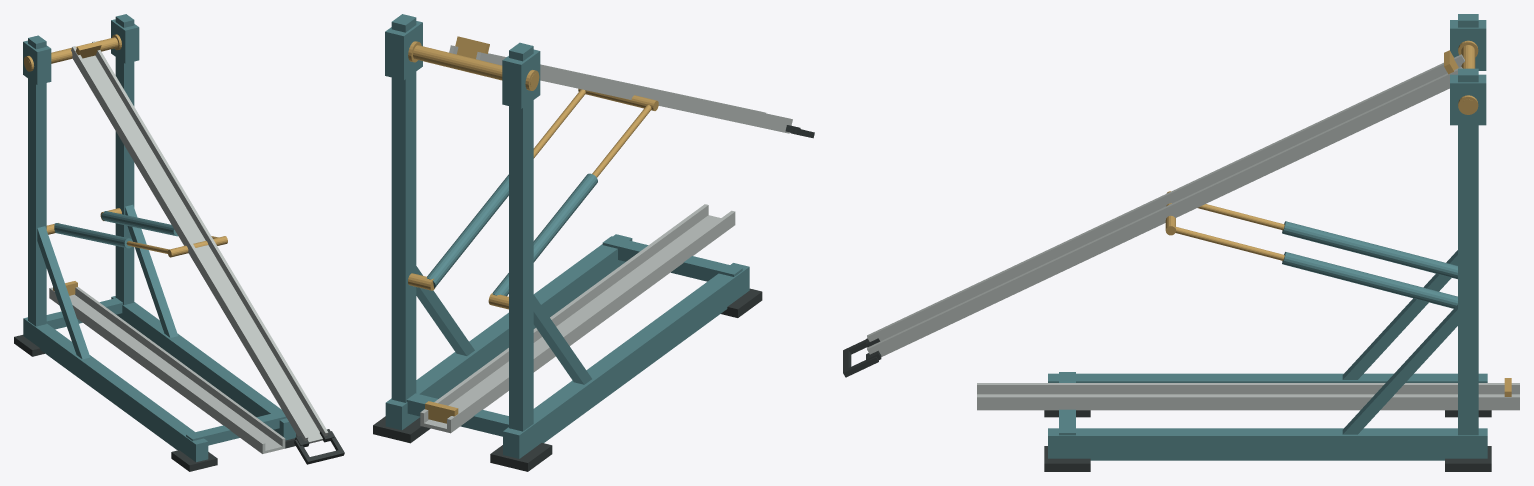
The picture shows the model from 3 angles, left to right: view 1: azimuth 30°, elevation 25°; view 2: azimuth 150°, elevation 25°; view 3: azimuth 270°, elevation 25°; orthographic projection. The views are drawn at different scales.
Visible parts, largest first — view 1: WholeUpperLoweredOpenTrough, WholeLowerHorizontalOpenTrough, LeftWholeLongBaseRail, LeftWholeRearColumn, RightWholeLongBaseRail, RightWholeRearColumn, LeftWholeColumnBrace, RightWholeColumnBrace, LeftWholeUpperPivotCheek, RightWholeUpperPivotCheek, WholeBaseCrossTie_0, LeftWholeSlopingSupportSleeve (+6 smaller); view 2: WholeLowerHorizontalOpenTrough, LeftWholeLongBaseRail, RightWholeRearColumn, LeftWholeRearColumn, RightWholeLongBaseRail, WholeUpperLoweredOpenTrough, RightWholeSlopingSupportSleeve, LeftWholeUpperPivotCheek, WholeBaseCrossTie_0, LeftWholeColumnBrace, LeftWholeSlopingSupportSleeve, RightWholeUpperPivotCheek (+10 smaller); view 3: WholeUpperLoweredOpenTrough, WholeLowerHorizontalOpenTrough, RightWholeLongBaseRail, RightWholeRearColumn, LeftWholeLongBaseRail, LeftWholeSlopingSupportSleeve, RightWholeSlopingSupportSleeve, RightWholeColumnBrace, LeftWholeColumnBrace, RightWholeUpperPivotCheek, LeftWholeUpperPivotCheek, RightWholeExtendedSupportRod (+2 smaller).
Part boxes in pixels (left/top/right/bottom): WholeUpperLoweredOpenTrough: left=71, top=41, right=328, bottom=443; WholeLowerHorizontalOpenTrough: left=49, top=287, right=285, bottom=453; LeftWholeLongBaseRail: left=23, top=317, right=208, bottom=462; LeftWholeRearColumn: left=28, top=35, right=46, bottom=326; RightWholeLongBaseRail: left=111, top=296, right=295, bottom=440; RightWholeRearColumn: left=115, top=14, right=134, bottom=304; LeftWholeColumnBrace: left=37, top=226, right=90, bottom=359; RightWholeColumnBrace: left=125, top=204, right=177, bottom=337; LeftWholeUpperPivotCheek: left=23, top=40, right=51, bottom=84; RightWholeUpperPivotCheek: left=111, top=19, right=139, bottom=63; WholeBaseCrossTie_0: left=186, top=411, right=286, bottom=445; LeftWholeSlopingSupportSleeve: left=54, top=223, right=132, bottom=248; WholeLowerHorizontalOpenTrough: left=420, top=204, right=735, bottom=433; LeftWholeLongBaseRail: left=503, top=263, right=749, bottom=458; RightWholeRearColumn: left=391, top=14, right=416, bottom=402; LeftWholeRearColumn: left=509, top=42, right=533, bottom=431; RightWholeLongBaseRail: left=385, top=234, right=632, bottom=430; WholeUpperLoweredOpenTrough: left=449, top=45, right=792, bottom=133; RightWholeSlopingSupportSleeve: left=427, top=174, right=508, bottom=288; LeftWholeUpperPivotCheek: left=502, top=49, right=540, bottom=108; WholeBaseCrossTie_0: left=602, top=236, right=742, bottom=281; LeftWholeColumnBrace: left=533, top=295, right=591, bottom=384; LeftWholeSlopingSupportSleeve: left=492, top=173, right=597, bottom=296; RightWholeUpperPivotCheek: left=385, top=21, right=422, bottom=80; WholeUpperLoweredOpenTrough: left=867, top=54, right=1464, bottom=356; WholeLowerHorizontalOpenTrough: left=977, top=383, right=1519, bottom=410; RightWholeLongBaseRail: left=1048, top=428, right=1487, bottom=460; RightWholeRearColumn: left=1458, top=68, right=1478, bottom=435; LeftWholeLongBaseRail: left=1048, top=373, right=1487, bottom=382; LeftWholeSlopingSupportSleeve: left=1282, top=221, right=1457, bottom=279; RightWholeSlopingSupportSleeve: left=1282, top=252, right=1457, bottom=308; RightWholeColumnBrace: left=1342, top=305, right=1457, bottom=434; LeftWholeColumnBrace: left=1342, top=250, right=1457, bottom=379; RightWholeUpperPivotCheek: left=1450, top=74, right=1486, bottom=125; LeftWholeUpperPivotCheek: left=1450, top=20, right=1486, bottom=70; RightWholeExtendedSupportRod: left=1175, top=227, right=1284, bottom=260.
Size of the model in its own units: 0.66 by 1.67 by 2.62.
